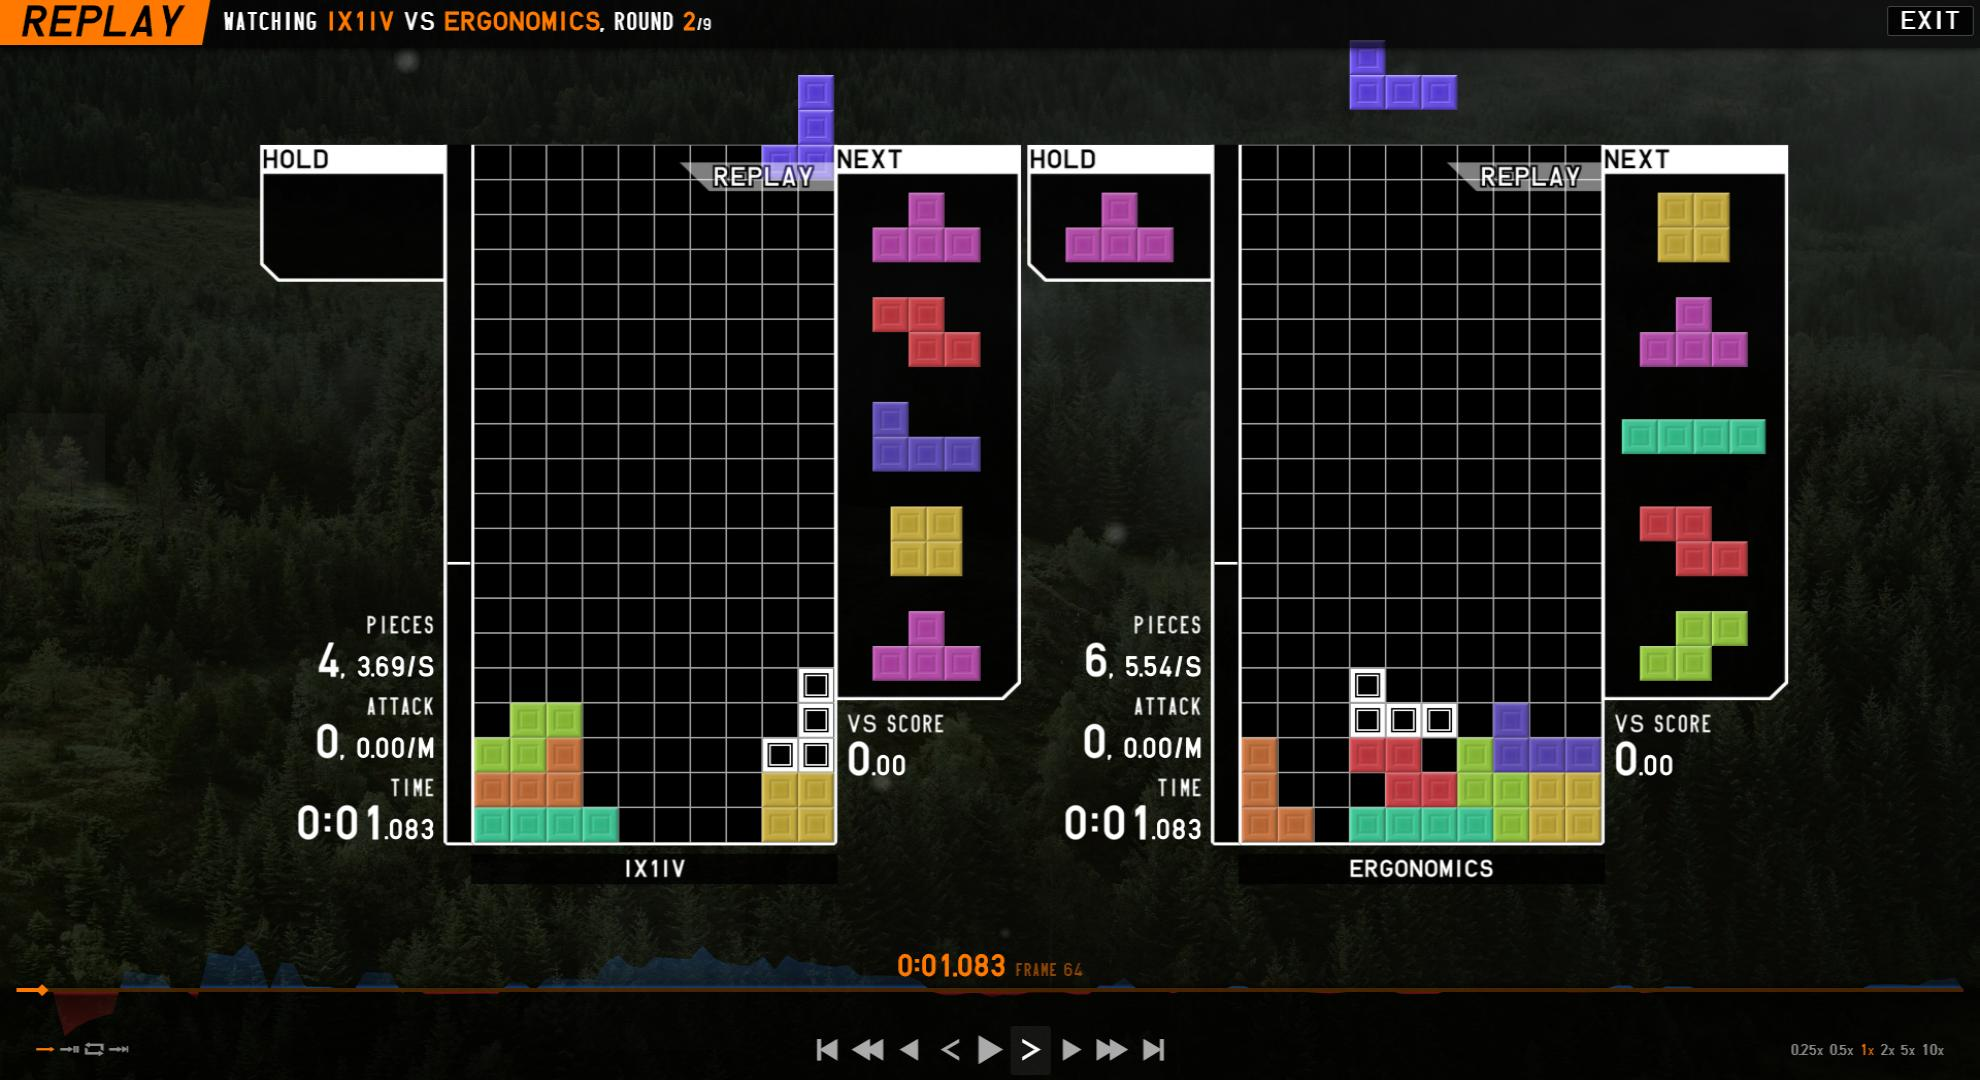tspin: (1279, 734, 1388, 839)
